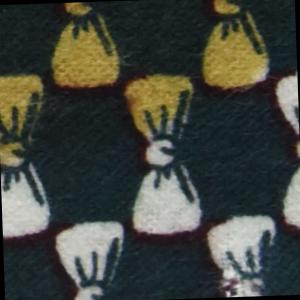Stain: (1, 1, 284, 176)
